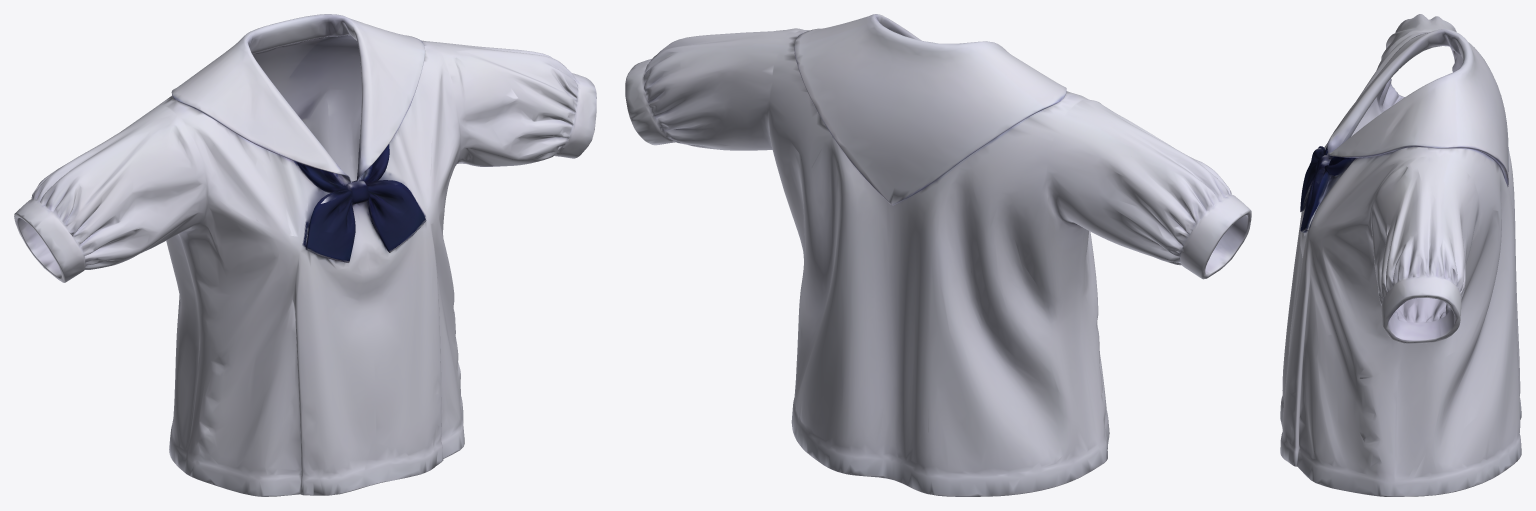
File: school_blouse_v2_full.obj
3 renders of one model, left to right at view 1: azimuth 30°, elevation 25°; view 2: azimuth 150°, elevation 25°; view 3: azimuth 270°, elevation 25°, orthographic. The views are drawn at different scales.
Parts seen in each view (by area): view 1: node_0; view 2: node_0; view 3: node_0.
Part boxes in pixels (x1,y1,x2,y2): node_0: (14, 14, 596, 496); node_0: (625, 14, 1251, 496); node_0: (1280, 14, 1521, 496).
Size of the model in its own units: 115 by 76.82 by 43.82.
Materials: 1 (1 with a texture image).
